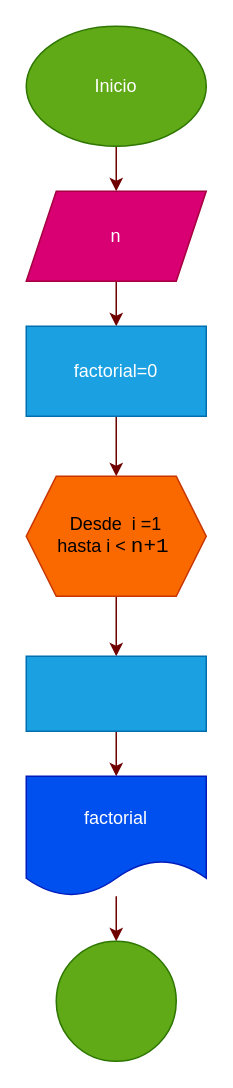
This 233x1088 diagram has some shape labels left out. Here are the shapes that lost their labels. From the top down, the centre of each, then its label:
At [115,693]: "factorial= factorial *i".
At [115,1000]: "Fin".
